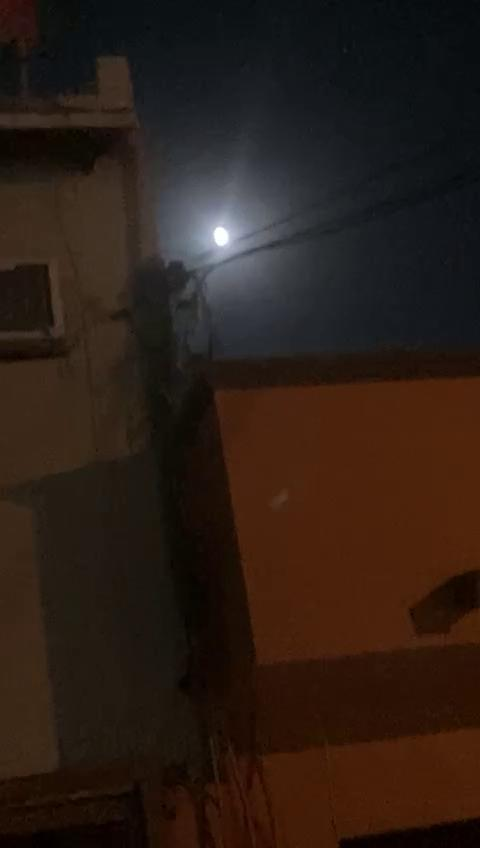moon: (210, 203, 244, 242)
